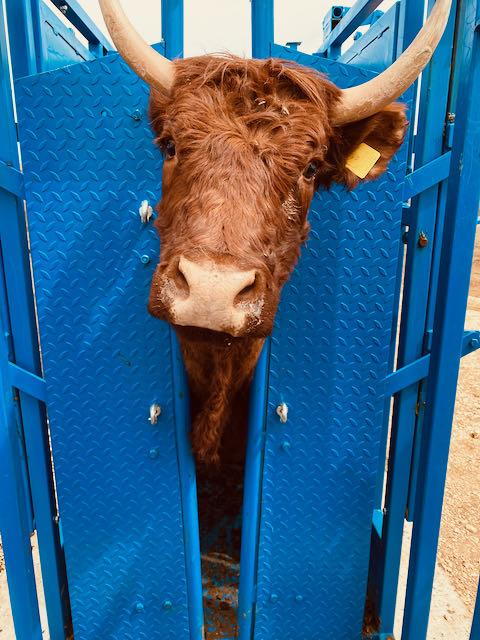muzzles: (141, 242, 288, 345)
